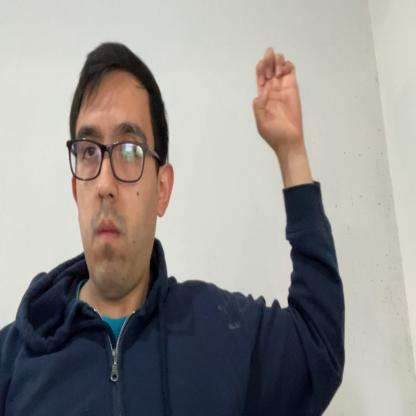E: (253, 44, 302, 146)
